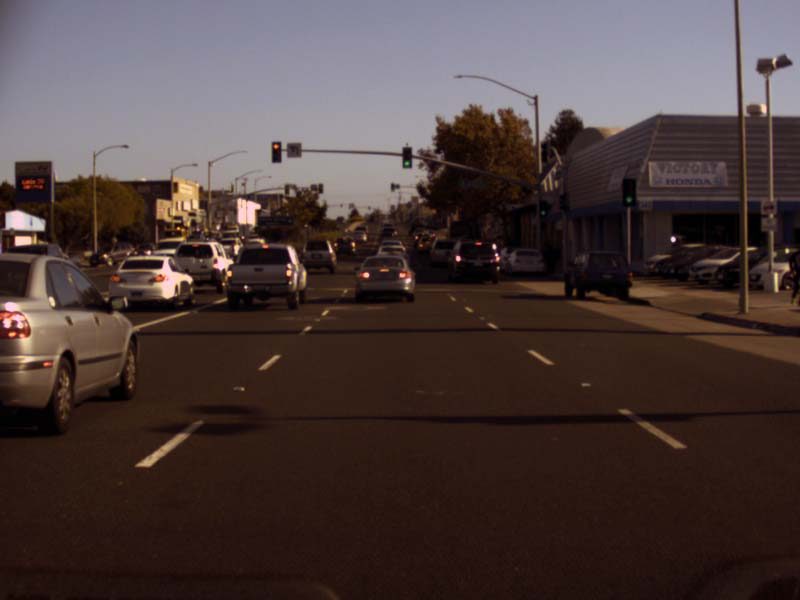Green: (622, 179, 635, 204), (402, 147, 411, 167), (539, 201, 547, 215)
Red: (271, 141, 280, 162)
